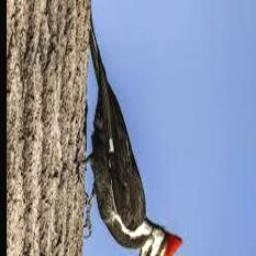Woodpecker: (82, 10, 183, 256)
